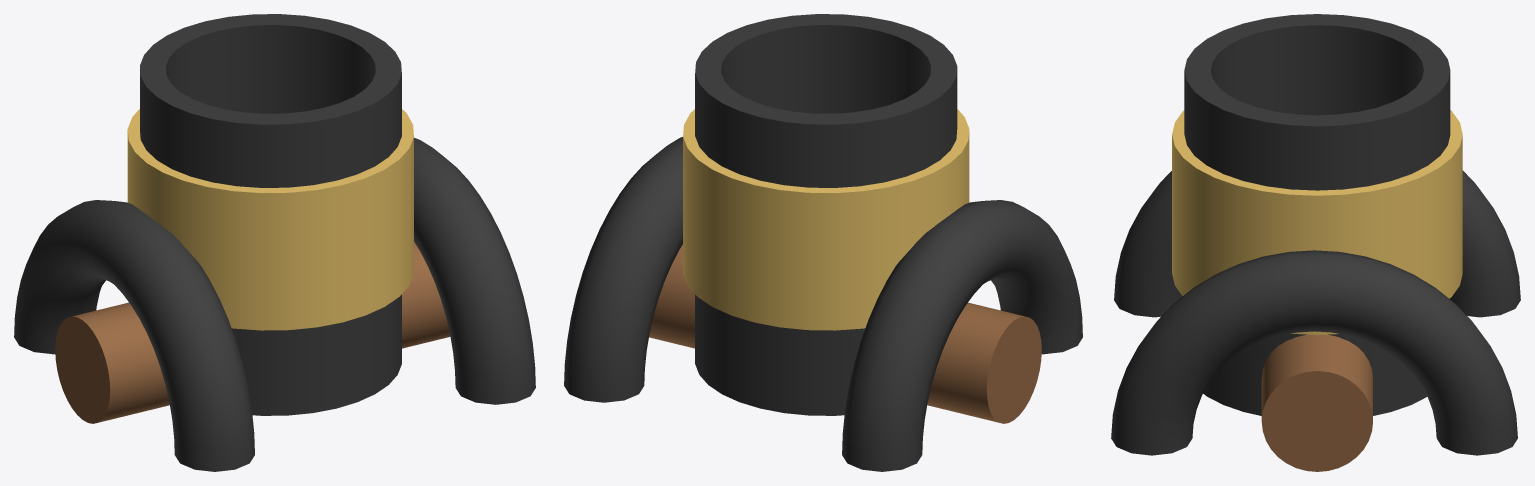
The model's file is tile_mortar.fbx.
3 renders of one model, left to right at view 1: azimuth 30°, elevation 25°; view 2: azimuth 150°, elevation 25°; view 3: azimuth 270°, elevation 25°, orthographic.
Visible parts, largest first — view 1: Cylinder, Torus.001, Torus, Cylinder.001; view 2: Cylinder, Torus.001, Torus, Cylinder.001; view 3: Cylinder, Torus, Cylinder.001, Torus.001.
Part boxes in pixels (left/top/right/bottom): Cylinder: left=127, top=14, right=413, bottom=415; Torus.001: left=14, top=200, right=254, bottom=471; Torus: left=414, top=138, right=535, bottom=404; Cylinder.001: left=55, top=242, right=450, bottom=423; Cylinder: left=683, top=14, right=969, bottom=415; Torus.001: left=842, top=200, right=1082, bottom=471; Torus: left=564, top=137, right=682, bottom=402; Cylinder.001: left=649, top=244, right=1041, bottom=423; Cylinder: left=1172, top=14, right=1462, bottom=415; Torus: left=1111, top=250, right=1517, bottom=455; Cylinder.001: left=1261, top=334, right=1372, bottom=471; Torus.001: left=1114, top=170, right=1520, bottom=317.
Bounding box in the file's own units: 270 × 209 × 252.
